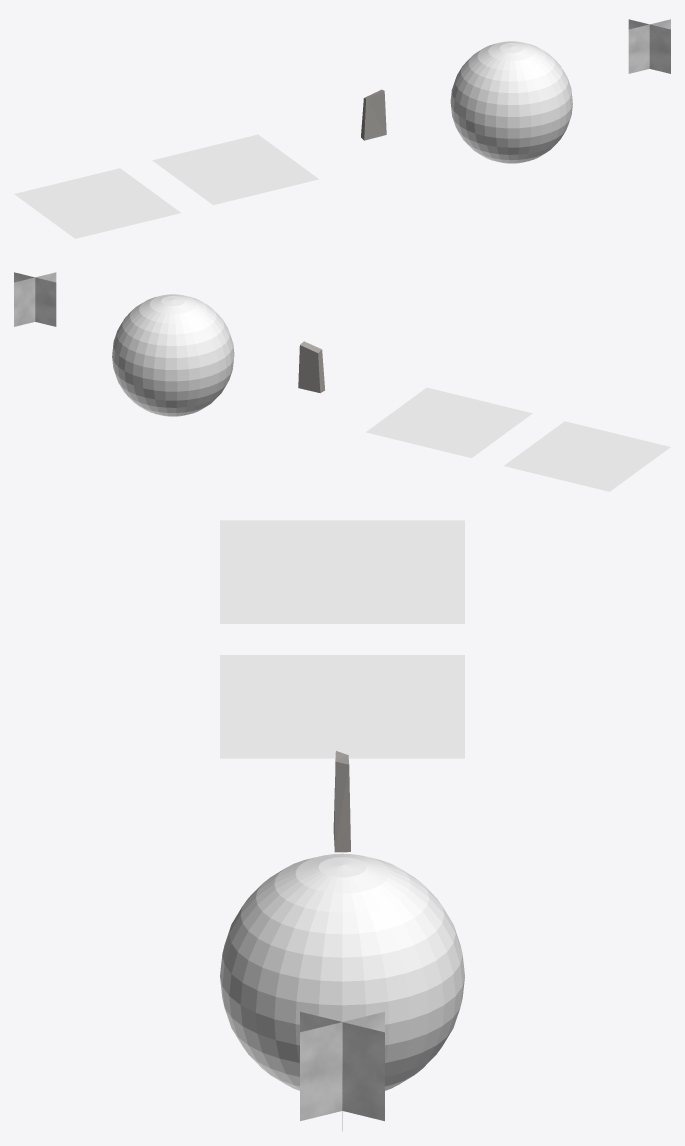
Rendered from SpikeRushFX4.fbx.
3 renders of one model, top to bottom at view 1: azimuth 30°, elevation 25°; view 2: azimuth 150°, elevation 25°; view 3: azimuth 270°, elevation 25°, orthographic. The views are drawn at different scales.
Parts seen in each view (by area): view 1: FX_Bubble, FX_Scorch, FX_Crack, FX_Smoke, FX_Slab; view 2: FX_Bubble, FX_Scorch, FX_Crack, FX_Smoke, FX_Slab; view 3: FX_Bubble, FX_Scorch, FX_Crack, FX_Smoke, FX_Slab.
Boxes of the visible parts, left/top/right/bottom form: FX_Bubble: left=450, top=41, right=572, bottom=163; FX_Scorch: left=14, top=168, right=180, bottom=238; FX_Crack: left=152, top=134, right=318, bottom=205; FX_Smoke: left=628, top=19, right=670, bottom=73; FX_Slab: left=361, top=89, right=386, bottom=140; FX_Bubble: left=112, top=294, right=234, bottom=416; FX_Scorch: left=504, top=421, right=670, bottom=491; FX_Crack: left=366, top=387, right=532, bottom=458; FX_Smoke: left=14, top=272, right=56, bottom=326; FX_Slab: left=298, top=341, right=324, bottom=393; FX_Bubble: left=220, top=853, right=464, bottom=1090; FX_Scorch: left=220, top=520, right=464, bottom=623; FX_Crack: left=220, top=655, right=464, bottom=758; FX_Smoke: left=300, top=1011, right=384, bottom=1131; FX_Slab: left=333, top=751, right=350, bottom=852.
Size of the model in its own units: 59 by 10 by 10.
Materials: 5 (4 with a texture image).
